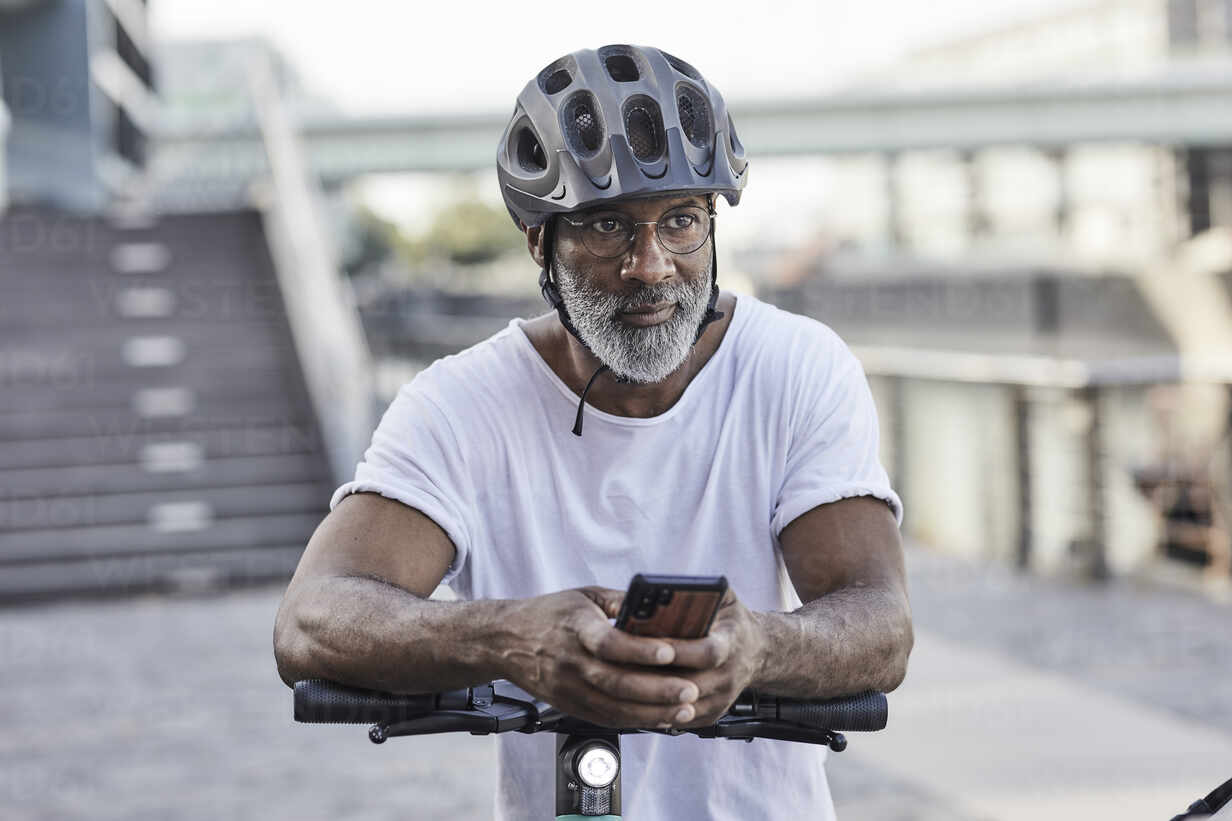helmet: (497, 47, 748, 382)
